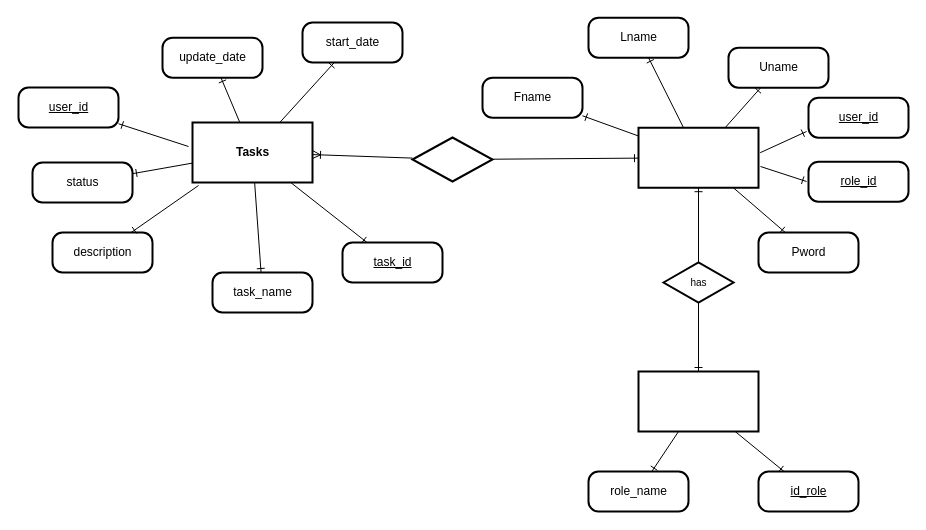
This 926x530 diagram has some shape labels left out. Each missing label, with the centre of its shape:
"Belongs_to" goes at (452,159).
"Roles" goes at (698,401).
"User" goes at (698,157).
